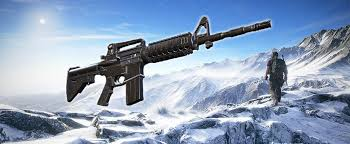gun: (62, 14, 273, 107)
